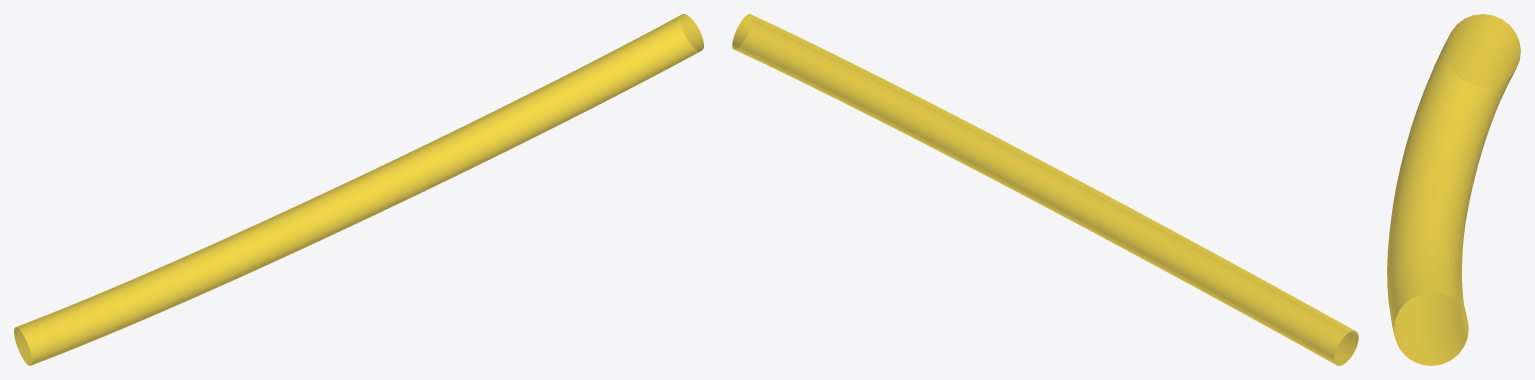
Rendered from Event_75125125_track_91.fbx.
3 renders of one model, left to right at view 1: azimuth 30°, elevation 25°; view 2: azimuth 150°, elevation 25°; view 3: azimuth 270°, elevation 25°, orthographic. The views are drawn at different scales.
Parts seen in each view (by area): view 1: Model; view 2: Model; view 3: Model.
Part boxes in pixels (x1,y1,x2,y2): Model: (14, 14, 703, 365); Model: (732, 14, 1358, 365); Model: (1387, 14, 1520, 365).
Size of the model in its own units: 0.7379 by 0.2144 by 0.0715.
